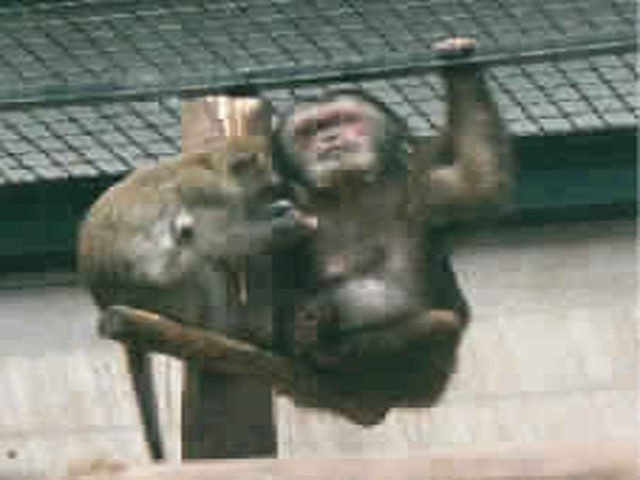Monkey: (70, 35, 530, 413)
